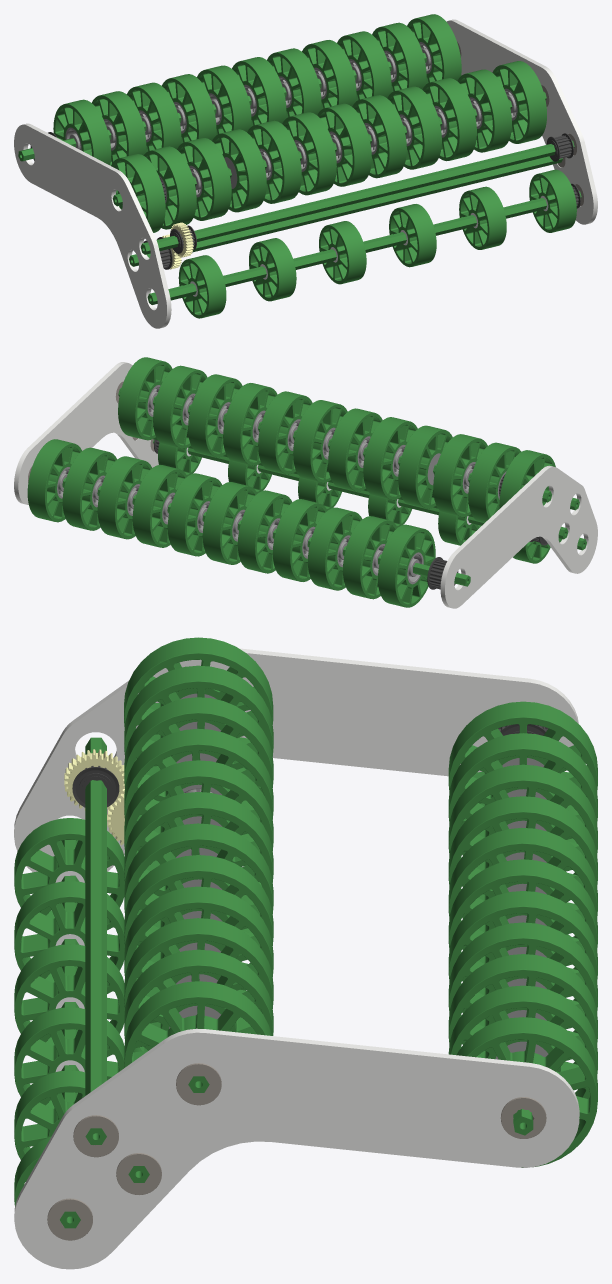
The picture shows the model from 3 angles, top to bottom: view 1: azimuth 30°, elevation 25°; view 2: azimuth 150°, elevation 25°; view 3: azimuth 270°, elevation 25°; orthographic projection. The views are drawn at different scales.
Visible parts, largest first — view 1: 4IN Compliant Wheel FINAL Overmold:1 (×23), (01) A - Intake Plate Left v20:1, (01) P - Intake Plates v15:1, (02) P- Intake Axel Front/Middle v4:3, (02) P- Intake Axel Front/Middle v4:4, (02) P- Intake Axel Front/Middle v4:1, am-3945 3IN 500Hex Compliant Wheel REV 3 (1) v2:10, am-3945 3IN 500Hex Compliant Wheel REV 3 (1) v2:2, am-3945 3IN 500Hex Compliant Wheel REV 3 (1) v2:6, am-3945 3IN 500Hex Compliant Wheel REV 3 (1) v2:12, am-3945 3IN 500Hex Compliant Wheel REV 3 (1) v2:4, am-3945 3IN 500Hex Compliant Wheel REV 3 (1) v2:8 (+3 smaller); view 2: 4IN Compliant Wheel FINAL Overmold:1 (×23), (01) A - Intake Plate Left v20:1, (01) P - Intake Plates v15:1, (02) P- Intake Axel Front/Middle v4:1, am-3945 3IN 500Hex Compliant Wheel REV 3 (1) v2:6, am-3945 3IN 500Hex Compliant Wheel REV 3 (1) v2:4, am-3945 3IN 500Hex Compliant Wheel REV 3 (1) v2:10, am-3945 3IN 500Hex Compliant Wheel REV 3 (1) v2:12, am-3945 3IN 500Hex Compliant Wheel REV 3 (1) v2:8, (06) P - Back Axel v4:1, am-3945 3IN 500Hex Compliant Wheel REV 3 (1) v2:2, 24 t 1/2 hex 5mm pitch 15 mm wide v3:1 (+1 smaller); view 3: 4IN Compliant Wheel FINAL Overmold:1 (×23), (01) P - Intake Plates v15:1, (01) A - Intake Plate Left v20:1, (02) P- Intake Axel Front/Middle v4:3, am-3945 3IN 500Hex Compliant Wheel REV 3 (1) v2:2, am-3945 3IN 500Hex Compliant Wheel REV 3 (1) v2:4, am-3945 3IN 500Hex Compliant Wheel REV 3 (1) v2:6, am-3945 3IN 500Hex Compliant Wheel REV 3 (1) v2:8, am-3945 3IN 500Hex Compliant Wheel REV 3 (1) v2:10, 32 t v2:2, (02) P- Intake Axel Front/Middle v4:1, am-2986 FR8ZZ Hex Bearing v3:2 (+5 smaller).
Boxes of the visible parts, x1,y1,x2,y2 form: 4IN Compliant Wheel FINAL Overmold:1 (×23): (53, 14, 546, 232); (01) A - Intake Plate Left v20:1: (14, 123, 171, 328); (01) P - Intake Plates v15:1: (446, 19, 597, 224); (02) P- Intake Axel Front/Middle v4:3: (140, 140, 574, 254); (02) P- Intake Axel Front/Middle v4:4: (129, 156, 562, 266); (02) P- Intake Axel Front/Middle v4:1: (147, 191, 581, 304); am-3945 3IN 500Hex Compliant Wheel REV 3 (1) v2:10: (459, 186, 506, 249); am-3945 3IN 500Hex Compliant Wheel REV 3 (1) v2:2: (178, 255, 226, 318); am-3945 3IN 500Hex Compliant Wheel REV 3 (1) v2:6: (249, 238, 296, 301); am-3945 3IN 500Hex Compliant Wheel REV 3 (1) v2:12: (529, 169, 576, 232); am-3945 3IN 500Hex Compliant Wheel REV 3 (1) v2:4: (319, 221, 366, 284); am-3945 3IN 500Hex Compliant Wheel REV 3 (1) v2:8: (389, 204, 436, 267); 4IN Compliant Wheel FINAL Overmold:1 (×23): (27, 357, 555, 607); (01) A - Intake Plate Left v20:1: (440, 465, 597, 608); (01) P - Intake Plates v15:1: (14, 362, 158, 504); (02) P- Intake Axel Front/Middle v4:1: (153, 439, 586, 550); am-3945 3IN 500Hex Compliant Wheel REV 3 (1) v2:6: (438, 510, 481, 545); am-3945 3IN 500Hex Compliant Wheel REV 3 (1) v2:4: (368, 493, 411, 527); am-3945 3IN 500Hex Compliant Wheel REV 3 (1) v2:10: (228, 459, 271, 493); am-3945 3IN 500Hex Compliant Wheel REV 3 (1) v2:12: (158, 442, 201, 476); am-3945 3IN 500Hex Compliant Wheel REV 3 (1) v2:8: (298, 476, 341, 510); (06) P - Back Axel v4:1: (62, 477, 470, 586); am-3945 3IN 500Hex Compliant Wheel REV 3 (1) v2:2: (513, 541, 550, 563); 24 t 1/2 hex 5mm pitch 15 mm wide v3:1: (427, 557, 458, 589); 4IN Compliant Wheel FINAL Overmold:1 (×23): (124, 637, 597, 1167); (01) P - Intake Plates v15:1: (14, 1028, 579, 1269); (01) A - Intake Plate Left v20:1: (14, 648, 578, 872); (02) P- Intake Axel Front/Middle v4:3: (85, 737, 106, 1144); am-3945 3IN 500Hex Compliant Wheel REV 3 (1) v2:2: (14, 818, 124, 918); am-3945 3IN 500Hex Compliant Wheel REV 3 (1) v2:4: (14, 944, 124, 1045); am-3945 3IN 500Hex Compliant Wheel REV 3 (1) v2:6: (14, 881, 124, 982); am-3945 3IN 500Hex Compliant Wheel REV 3 (1) v2:8: (14, 1007, 124, 1108); am-3945 3IN 500Hex Compliant Wheel REV 3 (1) v2:10: (14, 1070, 85, 1159); 32 t v2:2: (64, 749, 124, 810); (02) P- Intake Axel Front/Middle v4:1: (60, 840, 80, 1228); am-2986 FR8ZZ Hex Bearing v3:2: (176, 1063, 221, 1105).
Size of the model in its own units: 0.6507 by 0.1906 by 0.3974.
